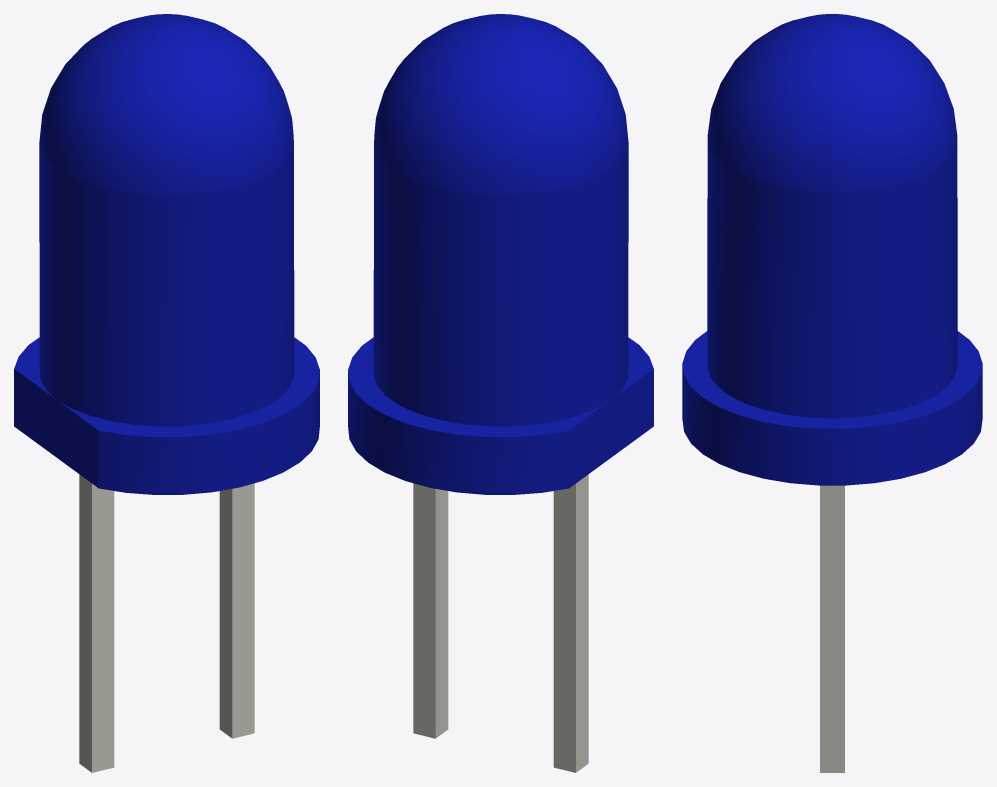
Rendered from kc-led_d4.0mm_blue.glb.
3 renders of one model, left to right at view 1: azimuth 30°, elevation 25°; view 2: azimuth 150°, elevation 25°; view 3: azimuth 270°, elevation 25°, orthographic.
Parts seen in each view (by area): view 1: 0_0_0.4166666666666667_0, 0.6666666666666666_0.6666666666666666_0.5833333333333334_0.8; view 2: 0_0_0.4166666666666667_0, 0.6666666666666666_0.6666666666666666_0.5833333333333334_0.8; view 3: 0_0_0.4166666666666667_0, 0.6666666666666666_0.6666666666666666_0.5833333333333334_0.8.
Boxes of the visible parts, left/top/right/bottom form: 0_0_0.4166666666666667_0: left=14, top=14, right=319, bottom=494; 0.6666666666666666_0.6666666666666666_0.5833333333333334_0.8: left=79, top=474, right=254, bottom=772; 0_0_0.4166666666666667_0: left=348, top=14, right=653, bottom=494; 0.6666666666666666_0.6666666666666666_0.5833333333333334_0.8: left=413, top=474, right=588, bottom=772; 0_0_0.4166666666666667_0: left=682, top=14, right=982, bottom=485; 0.6666666666666666_0.6666666666666666_0.5833333333333334_0.8: left=820, top=485, right=844, bottom=772.
Size of the model in its own units: 0.4389 by 1.25 by 0.4797.
